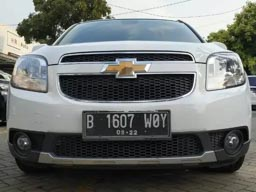plat: (83, 113, 169, 128)
